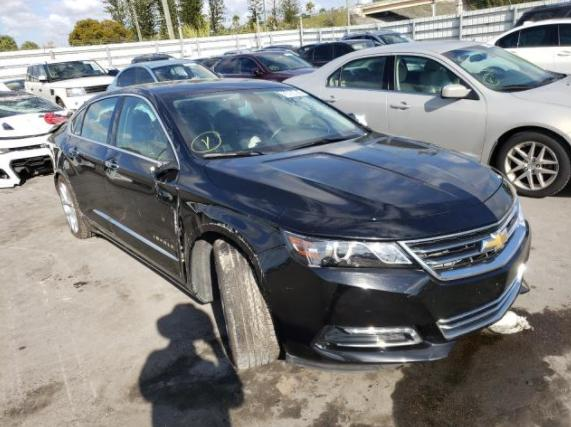Back-door: (64, 93, 124, 243)
Back-wheel: (56, 175, 92, 238)
Back-window: (82, 98, 119, 144), (72, 108, 86, 135)
Fender: (178, 154, 286, 286)
Front-bumper: (251, 215, 531, 366)
Front-door: (104, 93, 185, 281)
Front-wheel: (212, 239, 280, 368)
Front-window: (116, 97, 171, 159)
Grille: (407, 202, 519, 269)
Headlight: (281, 228, 422, 269)
Hood: (205, 131, 516, 241)
Quarter-panel: (48, 126, 68, 180)
Rocker-panel: (89, 223, 198, 299)
Roof: (89, 79, 297, 101)
Windshield: (157, 88, 369, 159)
